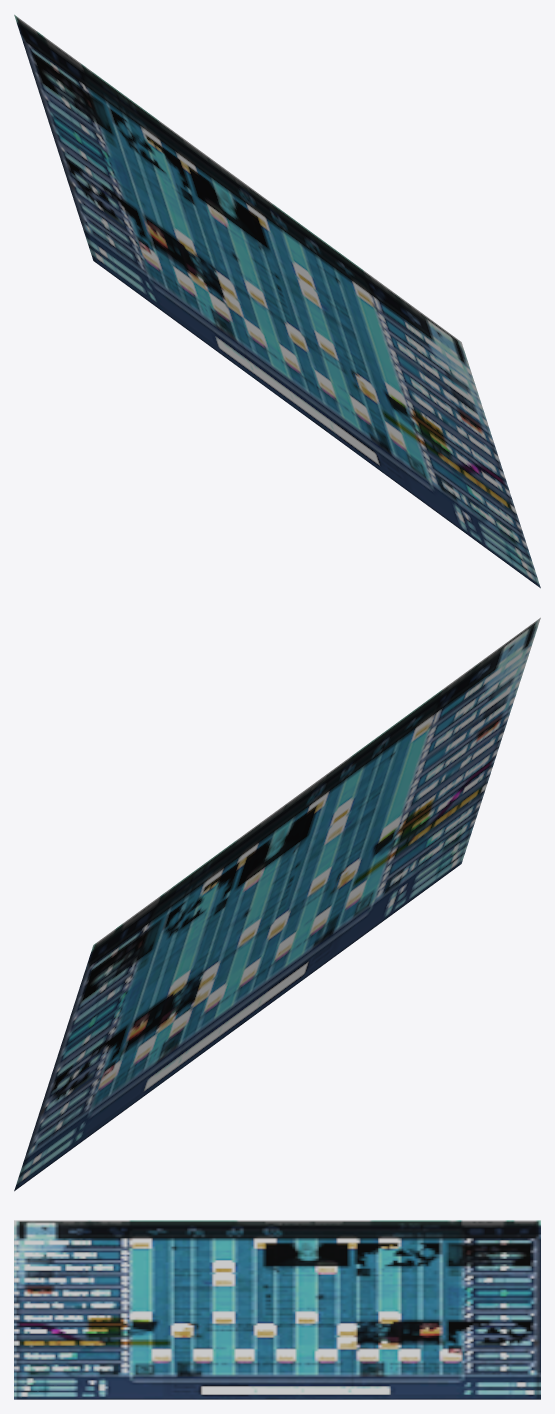
Rendered from kioskScreen_2.fbx.
3 renders of one model, top to bottom at view 1: azimuth 30°, elevation 25°; view 2: azimuth 150°, elevation 25°; view 3: azimuth 270°, elevation 25°, orthographic. The views are drawn at different scales.
Parts seen in each view (by area): view 1: polySurface12; view 2: polySurface12; view 3: polySurface12.
Boxes of the visible parts, box(x1,y1,x2,y2) form: polySurface12: box(14, 14, 540, 588); polySurface12: box(14, 617, 540, 1191); polySurface12: box(14, 1220, 540, 1399).
Size of the model in its own units: 0.139 by 0.4451 by 1.36.
Materials: 1 (1 with a texture image).
